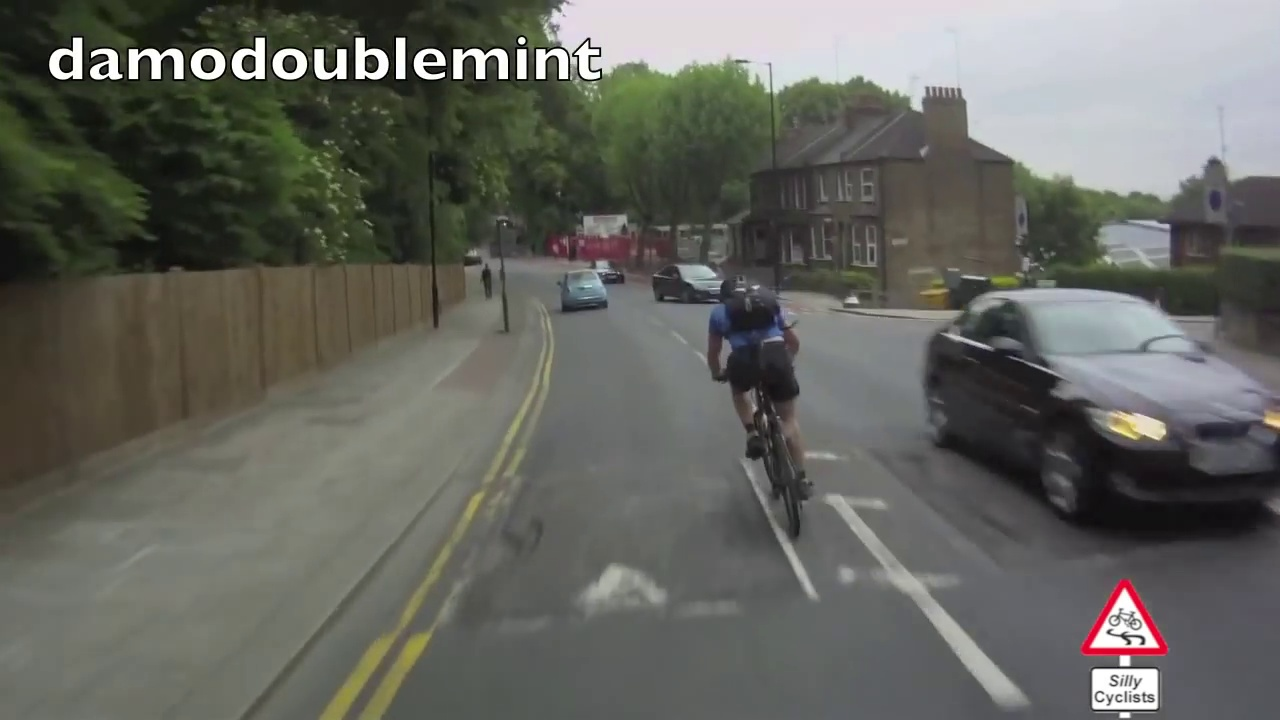cyclist_back: (705, 271, 820, 540)
